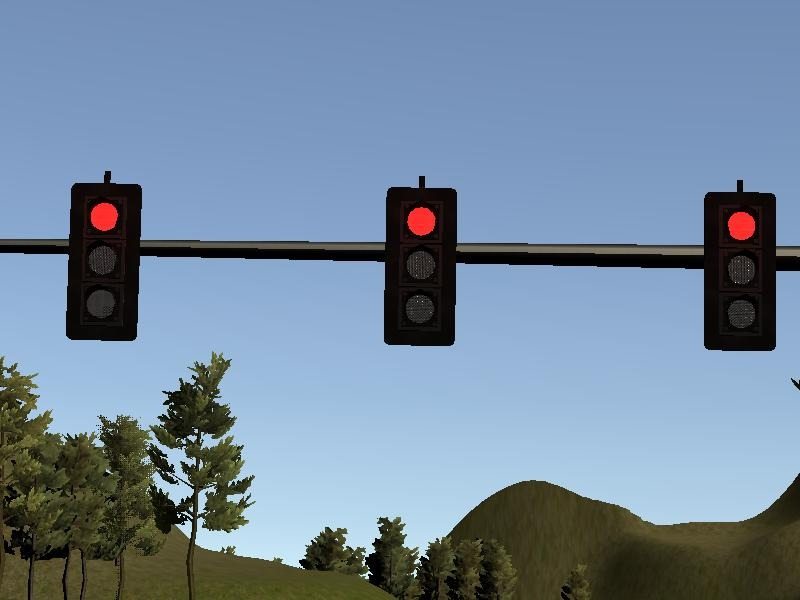red: (68, 184, 141, 341), (704, 193, 777, 350), (383, 187, 456, 344)
